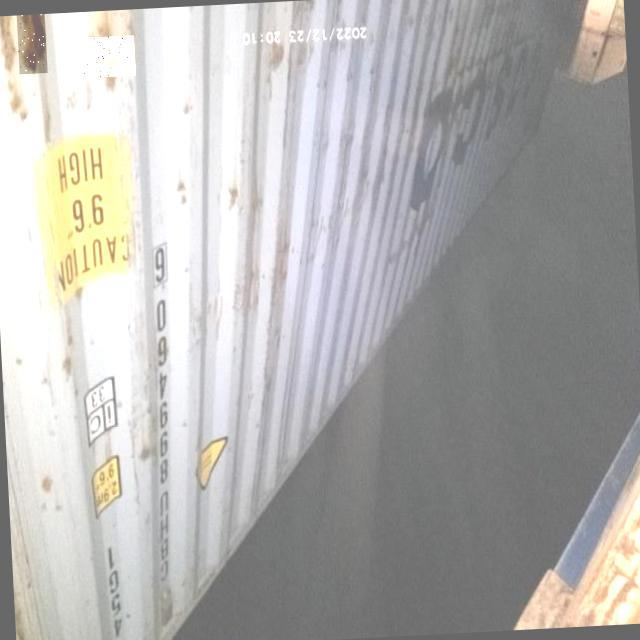Rust: (81, 35, 136, 78), (17, 14, 48, 74)
